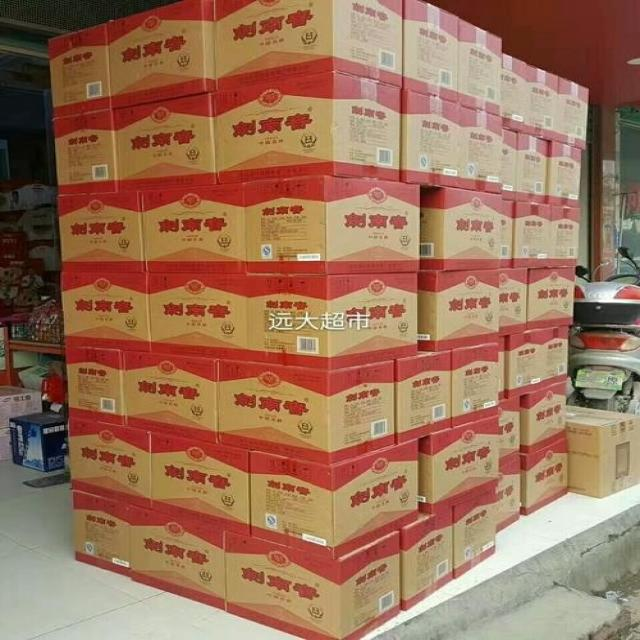box: (218, 71, 399, 184), (251, 439, 419, 558), (225, 531, 401, 640), (220, 359, 396, 465), (246, 176, 420, 274), (214, 1, 402, 91), (247, 273, 419, 370), (108, 0, 218, 108), (110, 93, 218, 191), (151, 432, 251, 536), (131, 506, 225, 610), (142, 183, 247, 273), (147, 273, 247, 360), (124, 351, 219, 442), (419, 415, 500, 513), (70, 416, 152, 509), (58, 192, 146, 273), (63, 273, 151, 352), (567, 405, 640, 499), (421, 189, 502, 270), (419, 271, 499, 351), (402, 90, 461, 194), (49, 22, 110, 118), (51, 110, 118, 195), (403, 0, 458, 103), (72, 490, 133, 577), (403, 508, 453, 611), (398, 350, 452, 443), (64, 346, 124, 424), (460, 18, 502, 116), (452, 343, 499, 426), (520, 438, 570, 516), (453, 490, 495, 579), (461, 105, 502, 194), (9, 412, 67, 471), (521, 381, 567, 453), (527, 268, 575, 329), (506, 329, 547, 399), (0, 259, 47, 319), (513, 203, 553, 268), (527, 64, 559, 141), (558, 78, 590, 151), (516, 133, 549, 203), (549, 141, 582, 207), (502, 53, 527, 133), (1, 208, 56, 242), (499, 269, 526, 338), (0, 385, 42, 429), (497, 460, 520, 533), (552, 206, 579, 268), (1, 178, 51, 211), (499, 396, 520, 468), (547, 327, 568, 388), (502, 130, 518, 201), (28, 240, 60, 272), (499, 200, 513, 268), (499, 338, 506, 400), (0, 428, 13, 461)
